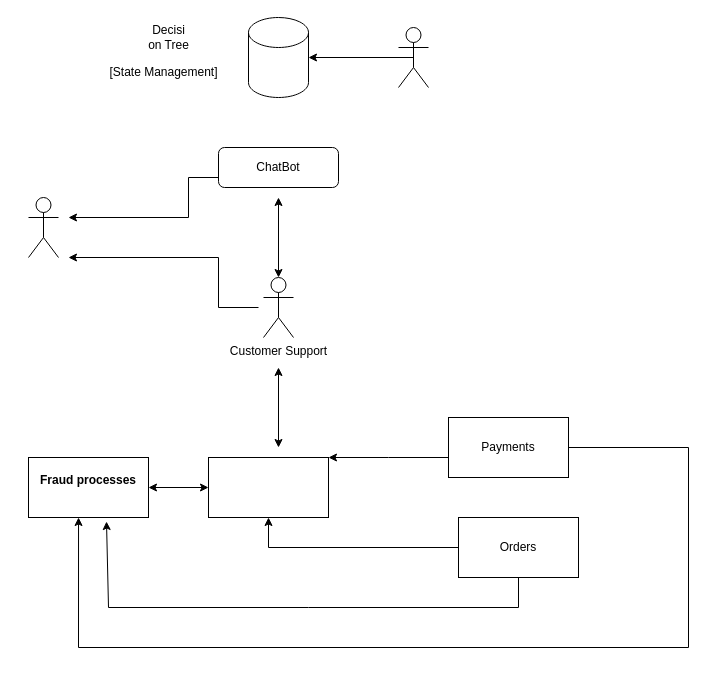
Some shapes in this 714 by 673 pixel diagram are drawn without their labels. Here are the shapes that lost their labels. From the top down, the box of each, then its label:
(398, 26, 428, 88): PM
(28, 196, 58, 258): Customer
